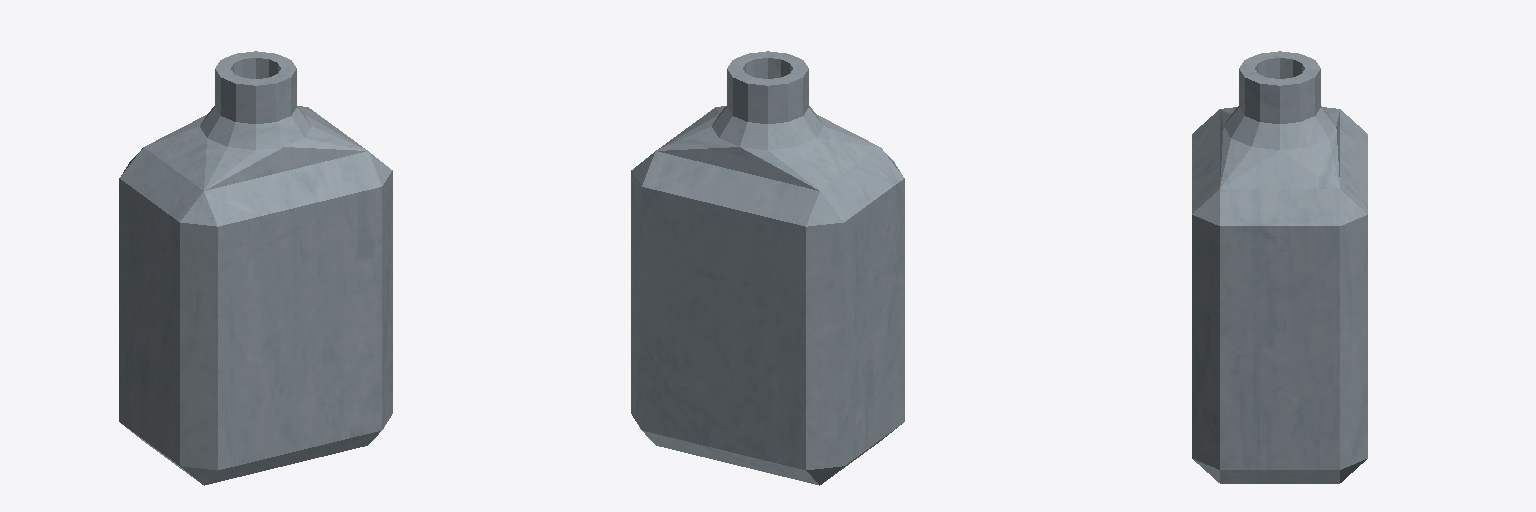
3 views of the same model, side by side, from view 1: azimuth 30°, elevation 25°; view 2: azimuth 150°, elevation 25°; view 3: azimuth 270°, elevation 25° (orthographic).
Size of the model in its own units: 2.48 by 4.18 by 1.78.
1 materials, 1 textured.